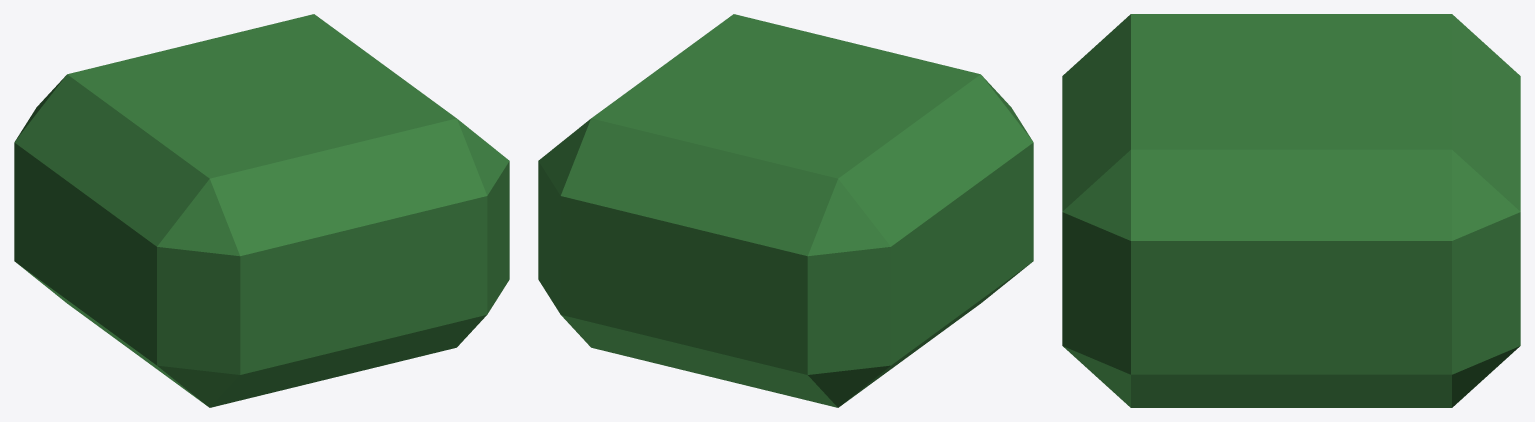
File: m_kub_dung_floor_mini.fbx
3 renders of one model, left to right at view 1: azimuth 30°, elevation 25°; view 2: azimuth 150°, elevation 25°; view 3: azimuth 270°, elevation 25°, orthographic. The views are drawn at different scales.
Visible parts, largest first — view 1: m_kub_dung_floor_mini; view 2: m_kub_dung_floor_mini; view 3: m_kub_dung_floor_mini.
Boxes of the visible parts, x1,y1,x2,y2 form: m_kub_dung_floor_mini: (14, 14, 509, 407); m_kub_dung_floor_mini: (538, 14, 1033, 407); m_kub_dung_floor_mini: (1062, 14, 1520, 407).
Bounding box in the file's own units: 1.32 × 0.8205 × 1.32.
